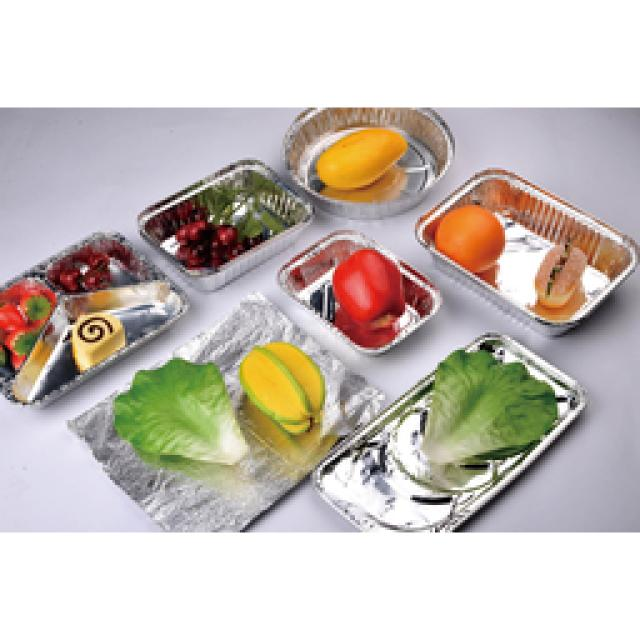alumunium: (70, 292, 582, 530), (415, 170, 632, 328), (138, 160, 308, 278)
